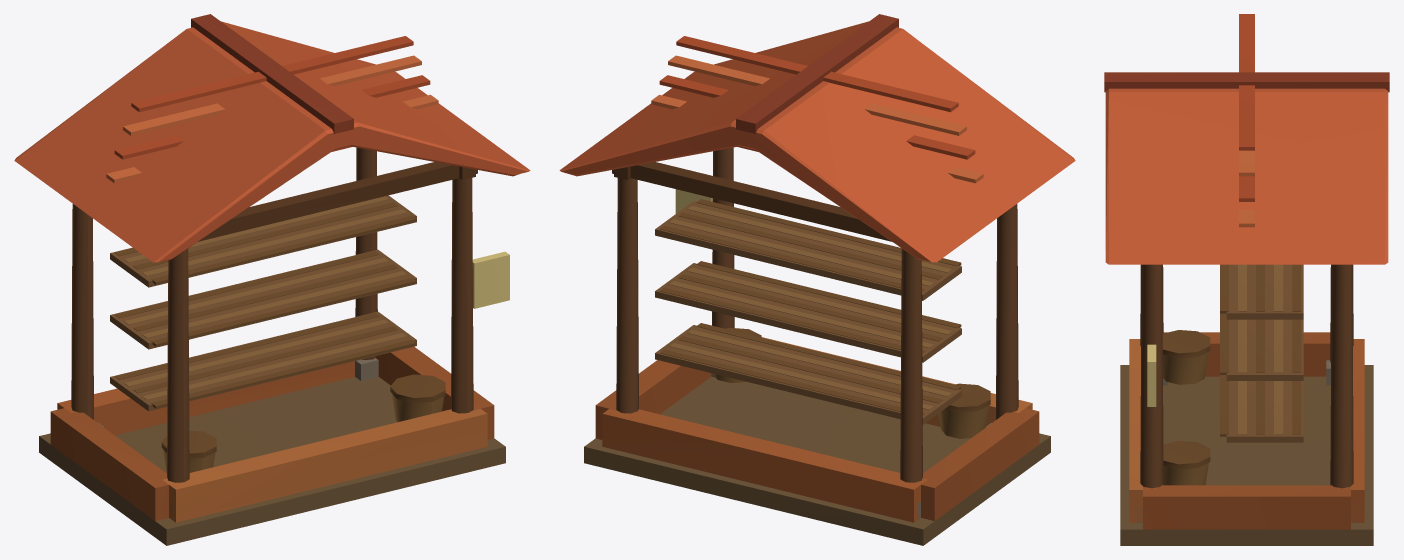
Rendered from clay-storage-empty.glb.
The picture shows the model from 3 angles, left to right: view 1: azimuth 30°, elevation 25°; view 2: azimuth 150°, elevation 25°; view 3: azimuth 270°, elevation 25°; orthographic projection.
Parts seen in each view (by area): view 1: drying-roof, yard-deck, dwarf-wall-front, dwarf-wall-left, slat-shelf-1, slat-shelf-0, beam-front, post-3, dwarf-wall-back, post-2, post-0, slat-shelf-2 (+25 smaller); view 2: drying-roof, yard-deck, dwarf-wall-back, slat-shelf-1, slat-shelf-2, slat-shelf-0, dwarf-wall-left, beam-back, post-1, post-0, post-2, roof-ridge (+24 smaller); view 3: drying-roof, yard-deck, dwarf-wall-right, post-1, roof-ridge, post-3, slat-shelf-0, slat-shelf-1, slat-shelf-2, dwarf-wall-back, dwarf-wall-front, roof-tile-row-4 (+23 smaller).
Boxes of the visible parts, bbox=[...] form: drying-roof: bbox=[14, 21, 530, 262]; yard-deck: bbox=[39, 376, 505, 545]; dwarf-wall-front: bbox=[162, 409, 487, 522]; dwarf-wall-left: bbox=[50, 408, 168, 520]; slat-shelf-1: bbox=[110, 249, 416, 349]; slat-shelf-0: bbox=[110, 311, 416, 411]; beam-front: bbox=[198, 162, 477, 241]; post-3: bbox=[451, 178, 473, 413]; dwarf-wall-back: bbox=[57, 361, 354, 435]; post-2: bbox=[167, 248, 189, 482]; post-0: bbox=[71, 204, 93, 419]; slat-shelf-2: bbox=[110, 195, 416, 287]; drying-roof: bbox=[559, 21, 1075, 262]; yard-deck: bbox=[584, 376, 1050, 545]; dwarf-wall-back: bbox=[602, 409, 927, 522]; slat-shelf-1: bbox=[655, 263, 961, 362]; slat-shelf-2: bbox=[655, 201, 961, 300]; slat-shelf-0: bbox=[655, 325, 961, 424]; dwarf-wall-left: bbox=[921, 408, 1039, 520]; beam-back: bbox=[612, 162, 891, 241]; post-1: bbox=[616, 178, 638, 413]; post-0: bbox=[900, 248, 922, 482]; post-2: bbox=[996, 204, 1018, 419]; roof-ridge: bbox=[736, 14, 898, 133]; drying-roof: bbox=[1105, 88, 1388, 264]; yard-deck: bbox=[1120, 365, 1373, 545]; dwarf-wall-right: bbox=[1143, 485, 1350, 529]; post-1: bbox=[1330, 264, 1353, 488]; roof-ridge: bbox=[1104, 72, 1389, 92]; post-3: bbox=[1140, 264, 1163, 488]; slat-shelf-0: bbox=[1226, 381, 1303, 442]; slat-shelf-1: bbox=[1226, 319, 1303, 380]; slat-shelf-2: bbox=[1226, 264, 1303, 319]; dwarf-wall-back: bbox=[1339, 339, 1364, 522]; dwarf-wall-front: bbox=[1129, 339, 1155, 522]; roof-tile-row-4: bbox=[1239, 14, 1254, 150].
Bounding box in the file's own units: 1.91 × 1.88 × 1.26.
